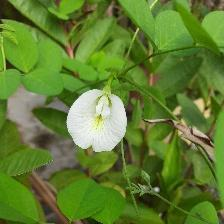shankupushpam: (66, 88, 129, 157)
